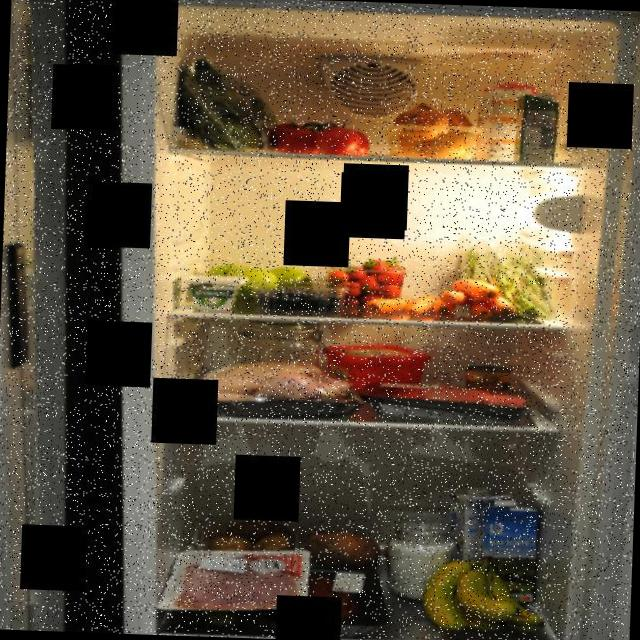Carne cerdo: (175, 552, 302, 610)
Carne pollo: (188, 352, 376, 424)
Carne vacuno: (378, 382, 530, 421), (294, 570, 372, 623)
Cebolla: (390, 99, 478, 157)
Leche: (474, 496, 544, 608), (448, 486, 505, 582)
Mantequilla: (320, 341, 432, 397)
Manzana: (207, 258, 316, 304)
Patata: (203, 515, 300, 560)
Plátano: (422, 554, 552, 638)
Queso: (187, 274, 250, 312)
Tomate: (262, 113, 382, 159)
Zanahoria: (432, 277, 523, 322), (360, 294, 432, 317)
blueberries: (256, 285, 342, 315)
corn: (458, 362, 516, 405)
flour: (236, 314, 330, 382)
green_beans: (450, 226, 559, 328)
heavy_cream: (519, 88, 562, 168)
spinach: (169, 34, 291, 156)
strawberries: (326, 254, 401, 304)
sugar: (386, 512, 458, 602), (473, 76, 538, 168)
sweet_potato: (299, 523, 387, 572)
